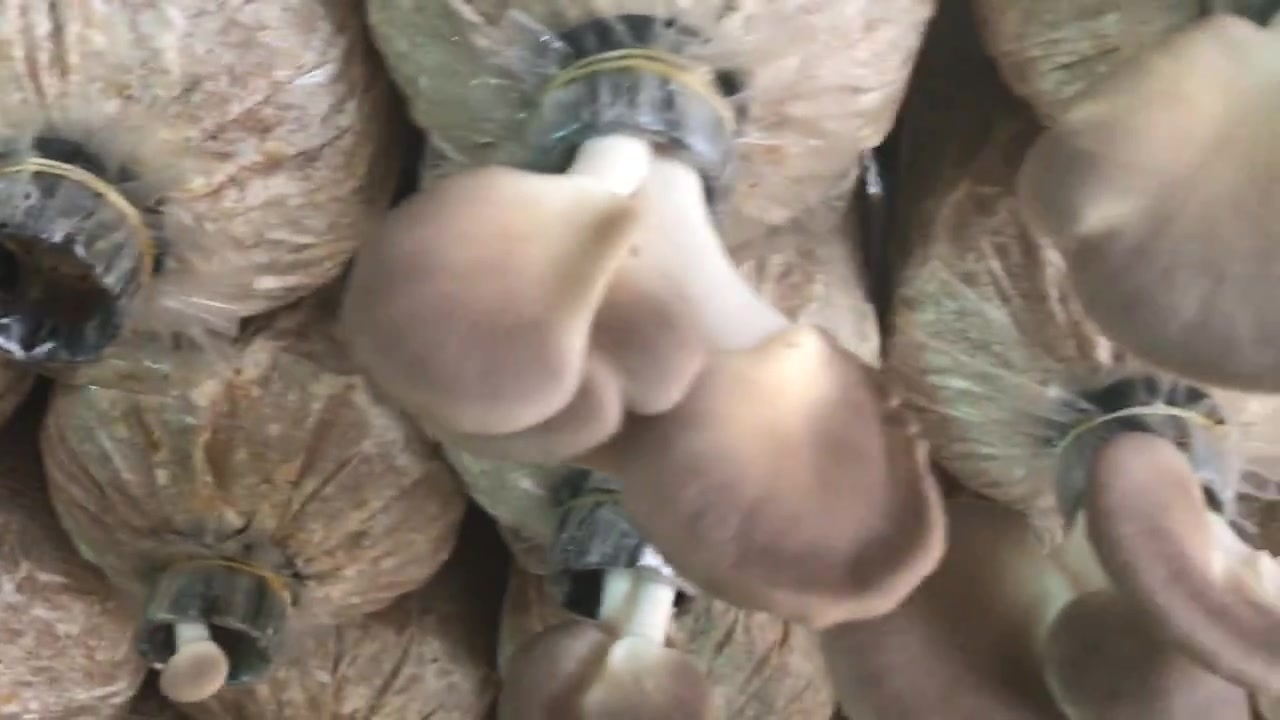nam: (349, 54, 945, 620), (827, 405, 1280, 719), (1016, 12, 1280, 392), (503, 499, 711, 720), (138, 574, 286, 699)
